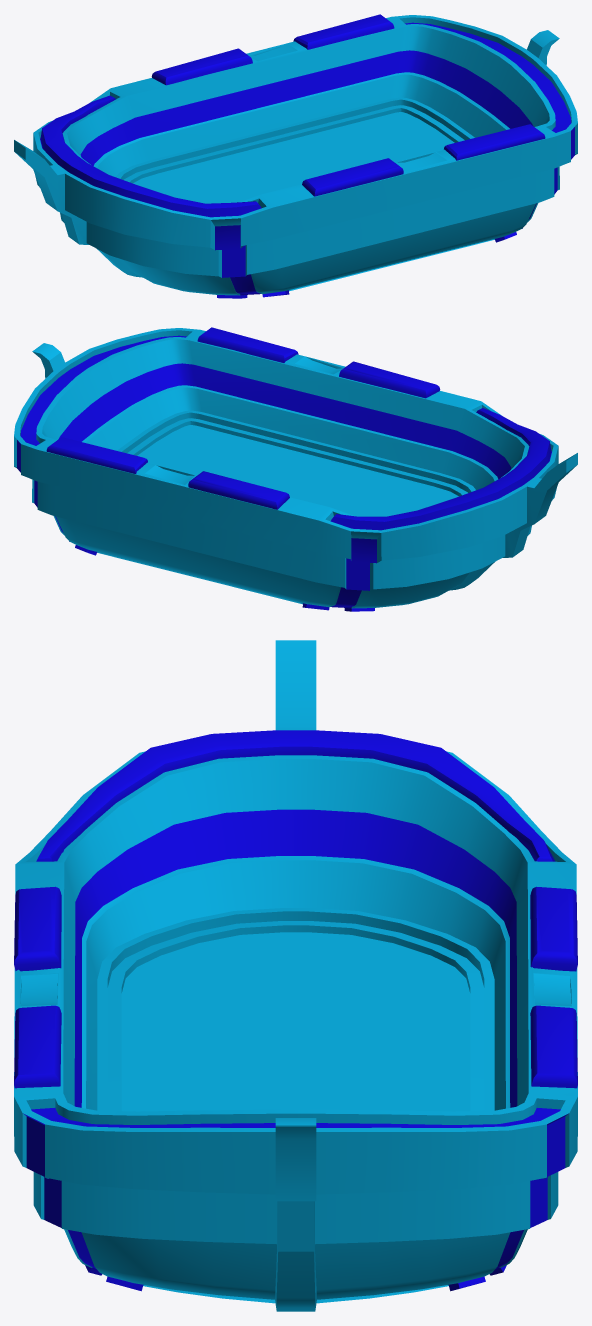
File: Boat.fbx
The picture shows the model from 3 angles, top to bottom: view 1: azimuth 30°, elevation 25°; view 2: azimuth 150°, elevation 25°; view 3: azimuth 270°, elevation 25°; orthographic projection. The views are drawn at different scales.
Visible parts, largest first — view 1: Boat; view 2: Boat; view 3: Boat.
Boxes of the visible parts, left/top/right/bottom form: Boat: left=14, top=14, right=577, bottom=298; Boat: left=14, top=327, right=577, bottom=611; Boat: left=14, top=640, right=577, bottom=1311.
Bounding box in the file's own units: 484 × 142 × 257.
